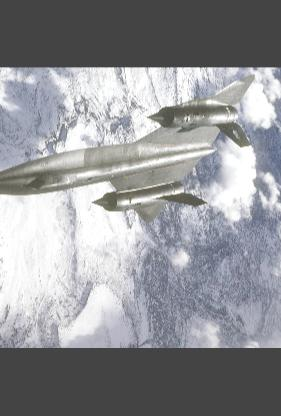Rafale: (0, 74, 256, 224)
